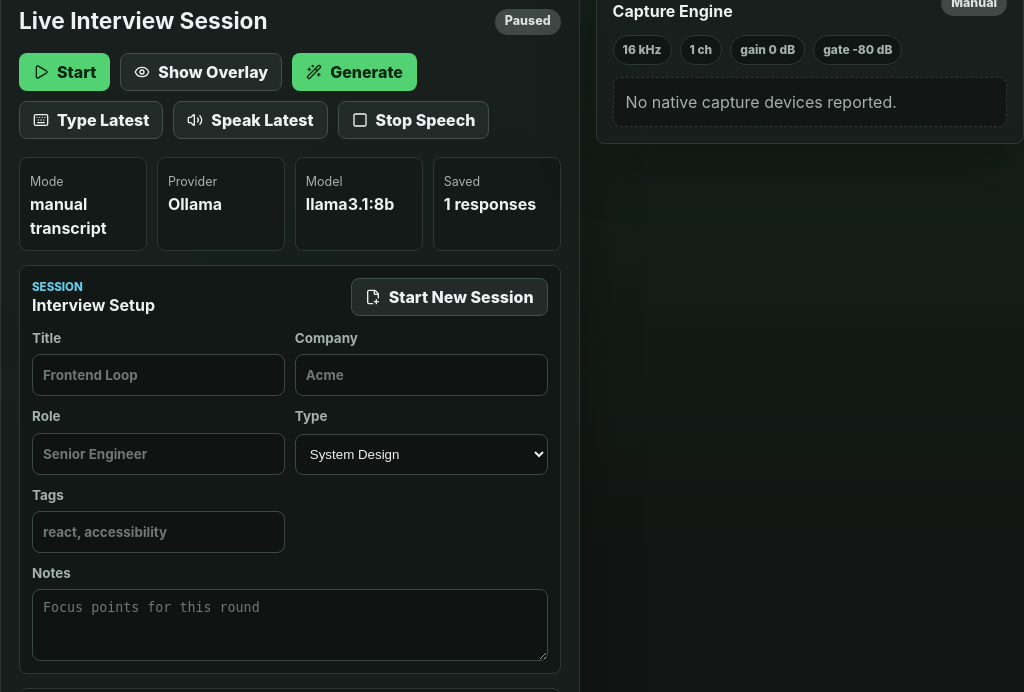
Scenario: Dashboard collaboration helper › keeps manual transcript mode active without opening native audio streams
Check: the heading "Live Interview Session" is shown, box [19, 7, 268, 34]
Click the button "Start" at (65, 72), box [19, 53, 110, 91]
(page scrolled)
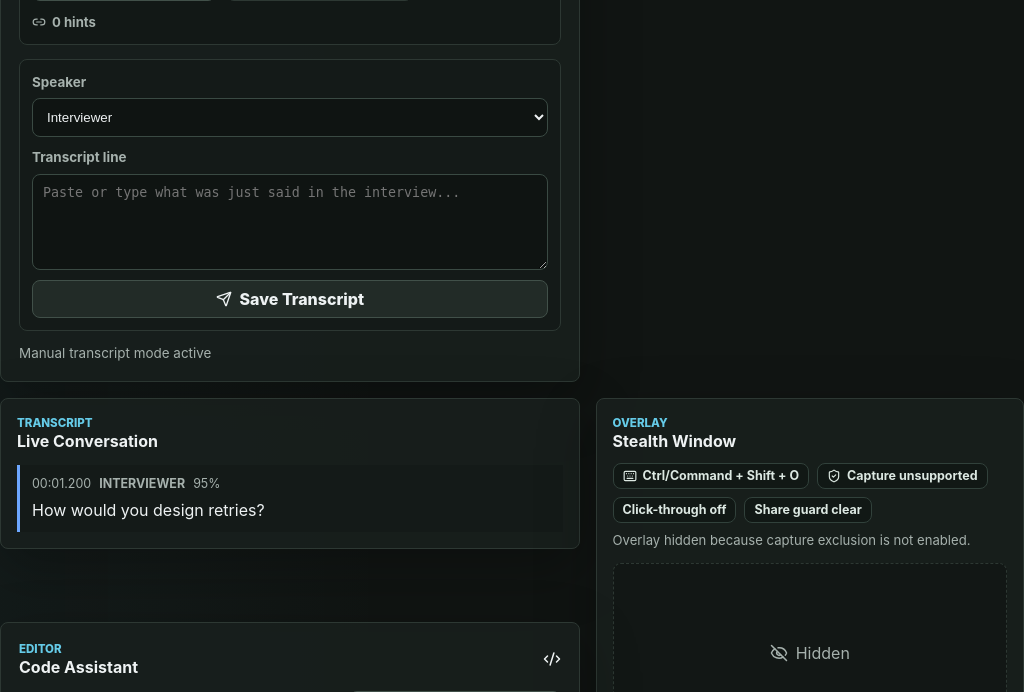
Check: the text "Manual transcript mode active" is shown, box [19, 345, 211, 361]
